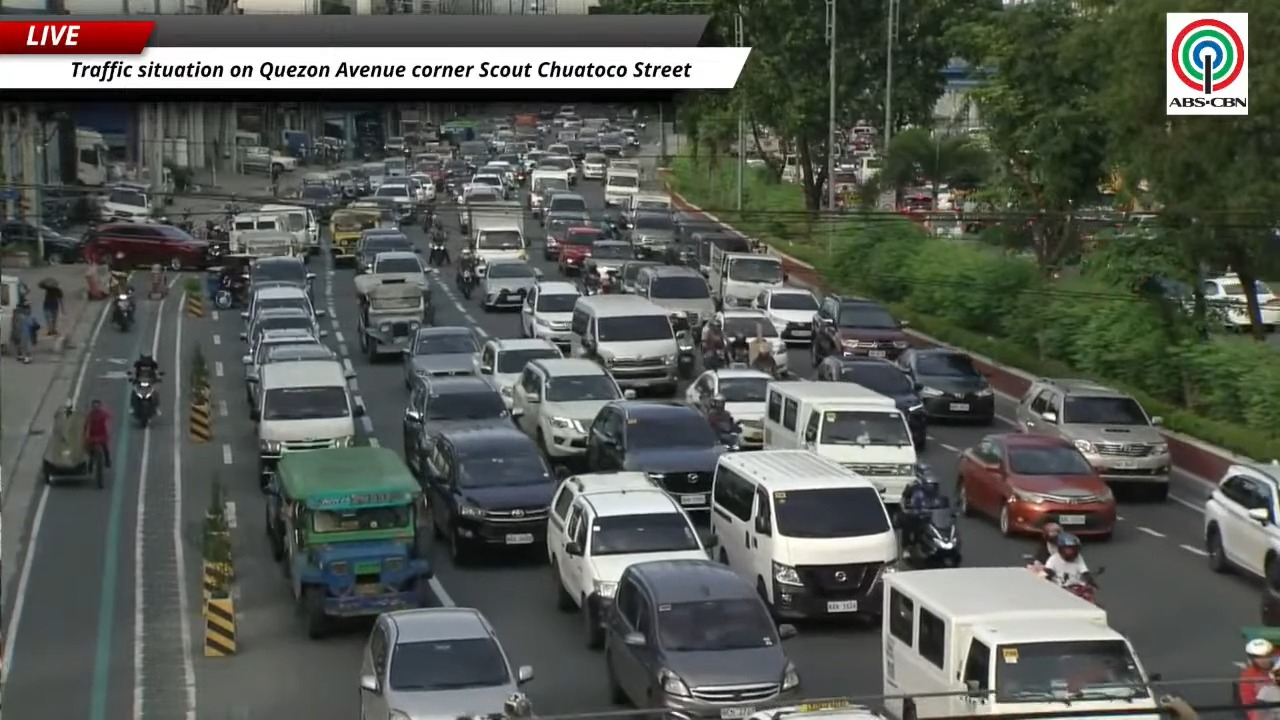car: (604, 560, 799, 717), (547, 472, 706, 648), (360, 607, 532, 719), (421, 423, 557, 564), (1015, 378, 1170, 500), (956, 432, 1116, 539), (587, 401, 726, 518), (512, 358, 633, 459), (402, 376, 509, 475), (813, 357, 926, 450), (1204, 464, 1279, 578), (898, 348, 994, 424), (811, 295, 909, 366), (686, 368, 772, 448), (246, 341, 336, 416), (242, 329, 327, 408), (83, 222, 211, 271), (478, 338, 563, 407), (633, 265, 715, 331), (713, 308, 788, 369), (404, 326, 478, 386), (521, 281, 580, 354), (240, 307, 326, 353), (752, 287, 818, 343), (0, 220, 82, 264), (240, 285, 324, 326), (479, 260, 540, 311), (249, 256, 314, 301), (548, 226, 607, 275), (1201, 273, 1252, 328), (357, 229, 420, 272), (543, 211, 590, 261), (628, 210, 675, 257), (372, 178, 417, 223), (581, 241, 635, 275), (297, 183, 341, 221), (538, 146, 577, 185), (673, 212, 721, 243), (618, 260, 662, 293), (544, 190, 590, 214), (581, 153, 607, 179)
motorcycle: (902, 507, 961, 567), (1041, 567, 1105, 603), (130, 375, 158, 427), (213, 274, 248, 309), (676, 329, 697, 379), (709, 419, 741, 450), (112, 292, 135, 331), (726, 335, 749, 366), (456, 267, 475, 299), (428, 241, 445, 267)
truck: (266, 447, 432, 638), (354, 251, 433, 361), (357, 275, 426, 361), (708, 244, 785, 307), (467, 201, 526, 274), (329, 208, 381, 264), (231, 229, 304, 258), (75, 127, 108, 186), (237, 146, 297, 174)
